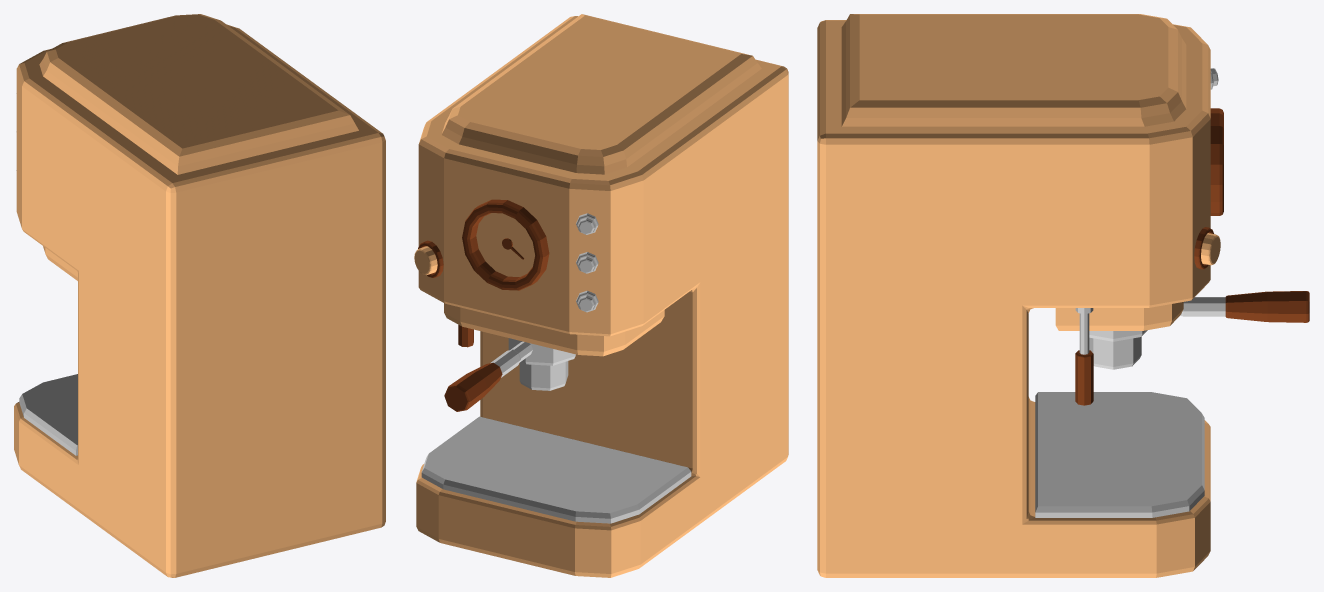
File: Espresso Machine.fbx
3 views of the same model, side by side, from view 1: azimuth 30°, elevation 25°; view 2: azimuth 150°, elevation 25°; view 3: azimuth 270°, elevation 25° (orthographic). The views are drawn at different scales.
Parts seen in each view (by area): view 1: Node 0; view 2: Node 0; view 3: Node 0.
Part boxes in pixels (x1=…): Node 0: x1=14, y1=14, x2=385, y2=577; Node 0: x1=414, y1=14, x2=788, y2=577; Node 0: x1=817, y1=14, x2=1309, y2=577.
Bounding box in the file's own units: 0.5995 × 0.6232 × 0.3468.
